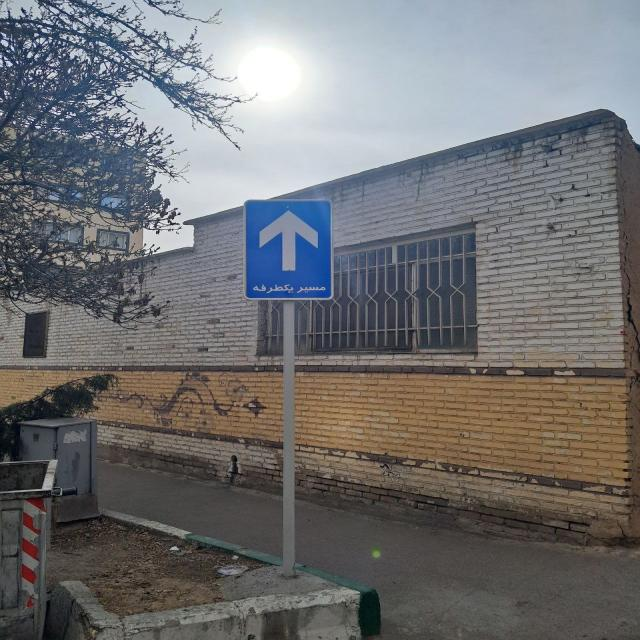one way traffic: (246, 198, 336, 303)
